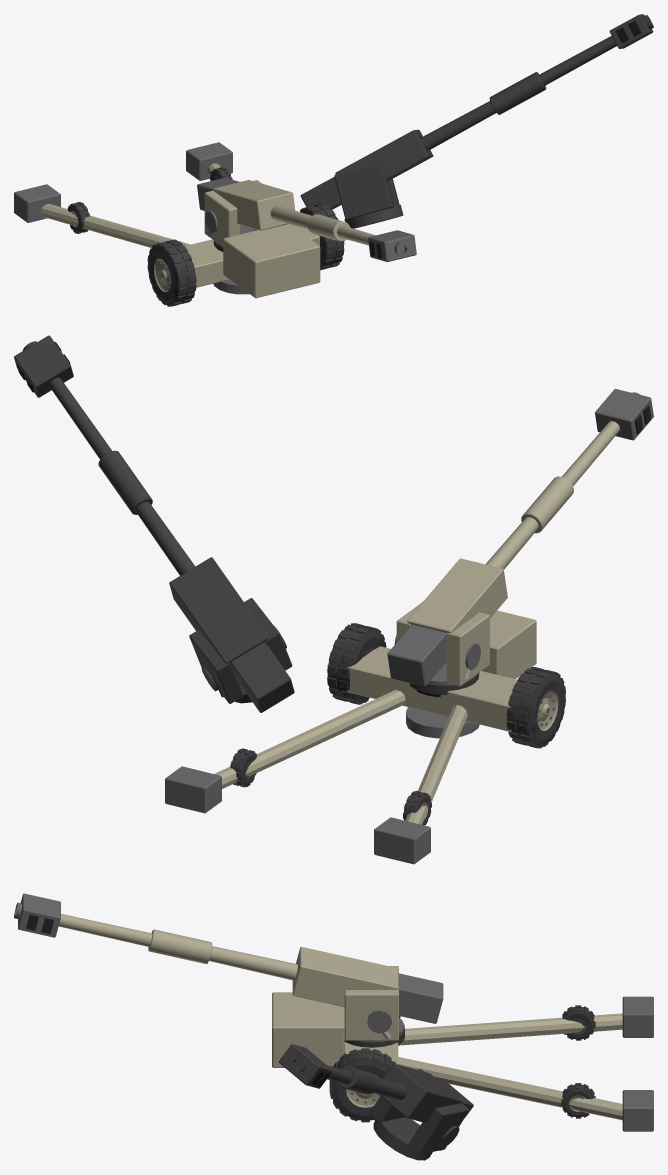
File: towedHowitzer__fh70.glb
3 views of the same model, one above another, from view 1: azimuth 30°, elevation 25°; view 2: azimuth 150°, elevation 25°; view 3: azimuth 270°, elevation 25° (orthographic). The views are drawn at different scales.
Visible parts, largest first — view 1: Hull_Mesh, Wreck, Gun_Mesh, Wheel_L0_Mesh, Turret_Mesh, Wheel_R0_Mesh, Wheel_L1_Mesh; view 2: Wreck, Hull_Mesh, Gun_Mesh, Wheel_L0_Mesh, Turret_Mesh, Wheel_R0_Mesh; view 3: Hull_Mesh, Gun_Mesh, Wreck, Turret_Mesh, Wheel_R0_Mesh, Wheel_L1_Mesh, Wheel_R1_Mesh.
Boxes of the visible parts, bbox=[...] form: Hull_Mesh: bbox=[14, 142, 320, 298]; Wreck: bbox=[147, 14, 653, 303]; Gun_Mesh: bbox=[197, 177, 416, 262]; Wheel_L0_Mesh: bbox=[147, 239, 196, 306]; Turret_Mesh: bbox=[204, 180, 261, 246]; Wheel_R0_Mesh: bbox=[300, 204, 344, 269]; Wheel_L1_Mesh: bbox=[67, 202, 89, 233]; Wreck: bbox=[14, 335, 565, 740]; Hull_Mesh: bbox=[165, 610, 536, 864]; Gun_Mesh: bbox=[387, 388, 653, 686]; Wheel_L0_Mesh: bbox=[506, 667, 565, 748]; Turret_Mesh: bbox=[394, 602, 489, 686]; Wheel_R0_Mesh: bbox=[327, 623, 384, 704]; Hull_Mesh: bbox=[272, 992, 653, 1131]; Gun_Mesh: bbox=[14, 893, 443, 1023]; Wreck: bbox=[278, 1028, 580, 1160]; Turret_Mesh: bbox=[344, 966, 404, 1042]; Wheel_R0_Mesh: bbox=[329, 1048, 395, 1122]; Wheel_L1_Mesh: bbox=[562, 1005, 595, 1040]; Wheel_R1_Mesh: bbox=[561, 1083, 595, 1118].
Size of what is drawn, in the model's own units: 7.98 by 3.24 by 8.21.
